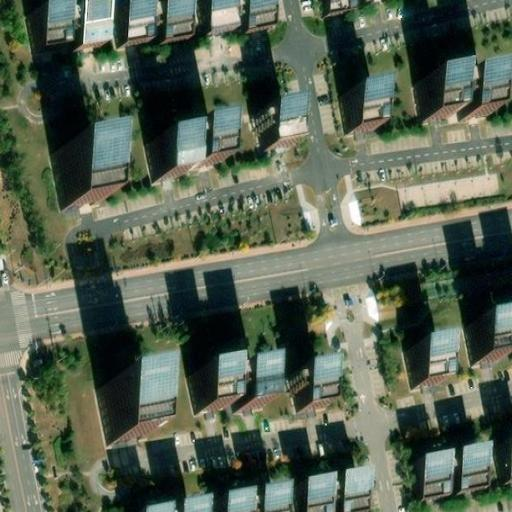building: (415, 443, 484, 502), (198, 364, 267, 416), (116, 366, 161, 439), (70, 135, 113, 209), (300, 466, 364, 512), (471, 310, 512, 367), (221, 481, 285, 512), (427, 76, 468, 124), (79, 0, 116, 53), (146, 130, 182, 183), (412, 336, 445, 389), (177, 122, 210, 175), (258, 106, 291, 158), (345, 92, 381, 139), (46, 3, 80, 52), (463, 74, 498, 121), (293, 370, 323, 417), (138, 496, 207, 512), (501, 437, 512, 486)
